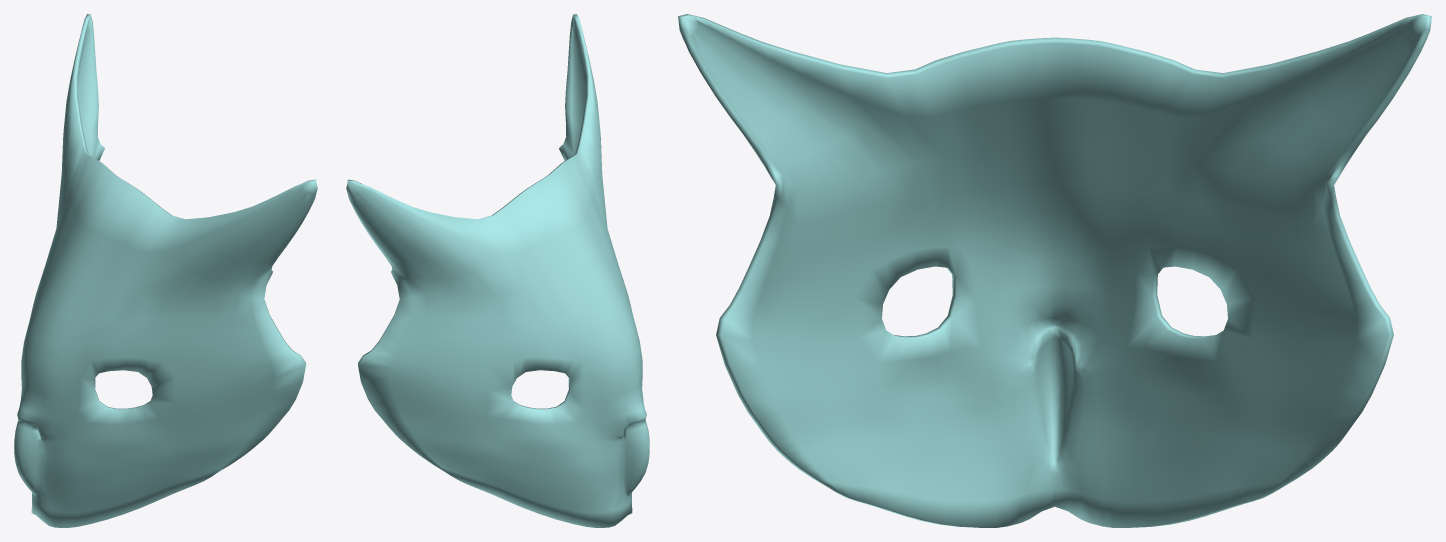
File: hiboumasque.fbx
The picture shows the model from 3 angles, left to right: view 1: azimuth 30°, elevation 25°; view 2: azimuth 150°, elevation 25°; view 3: azimuth 270°, elevation 25°; orthographic projection. The views are drawn at different scales.
Parts seen in each view (by area): view 1: Hibou_base; view 2: Hibou_base; view 3: Hibou_base.
Part boxes in pixels (left/top/right/bottom): Hibou_base: left=14, top=14, right=317, bottom=527; Hibou_base: left=346, top=14, right=649, bottom=527; Hibou_base: left=678, top=14, right=1431, bottom=527.
Size of the model in its own units: 1.77 by 3.39 by 3.67.
